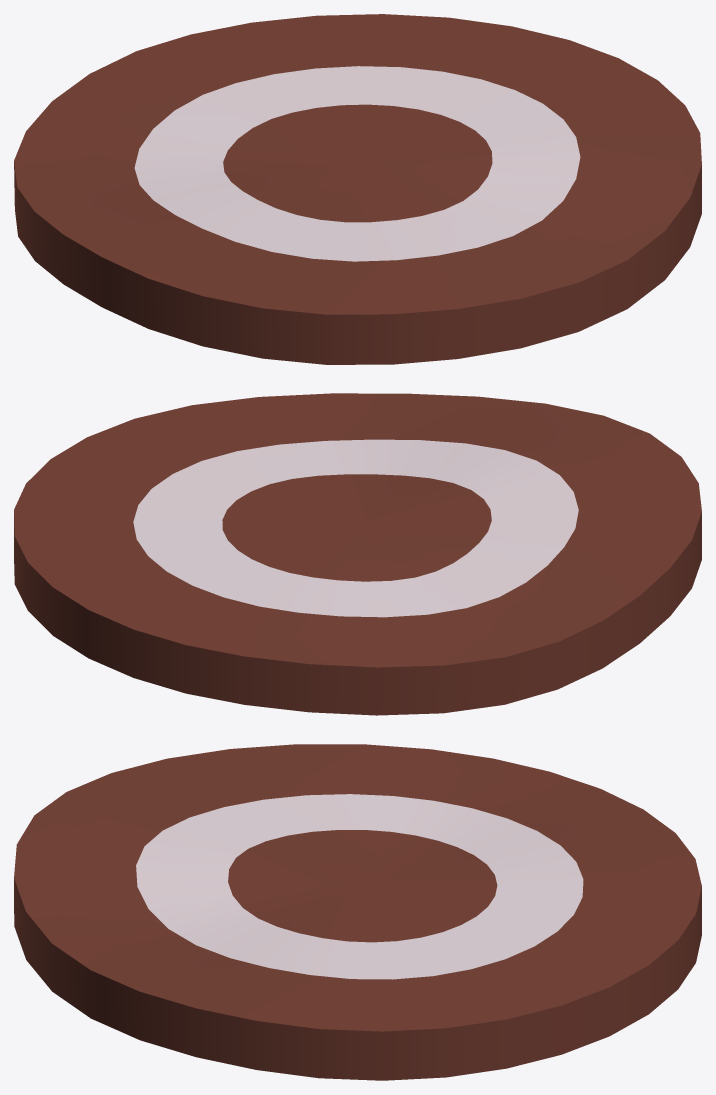
The model's file is rug_small.fbx.
3 views of the same model, one above another, from view 1: azimuth 30°, elevation 25°; view 2: azimuth 150°, elevation 25°; view 3: azimuth 270°, elevation 25° (orthographic). The views are drawn at different scales.
Visible parts, largest first — view 1: Cylinder.015; view 2: Cylinder.015; view 3: Cylinder.015.
Boxes of the visible parts, <box> form: Cylinder.015: <box>14,14,701,364</box>; Cylinder.015: <box>14,393,701,715</box>; Cylinder.015: <box>14,744,701,1080</box>.
Size of the model in its own units: 206 by 19.89 by 208.
